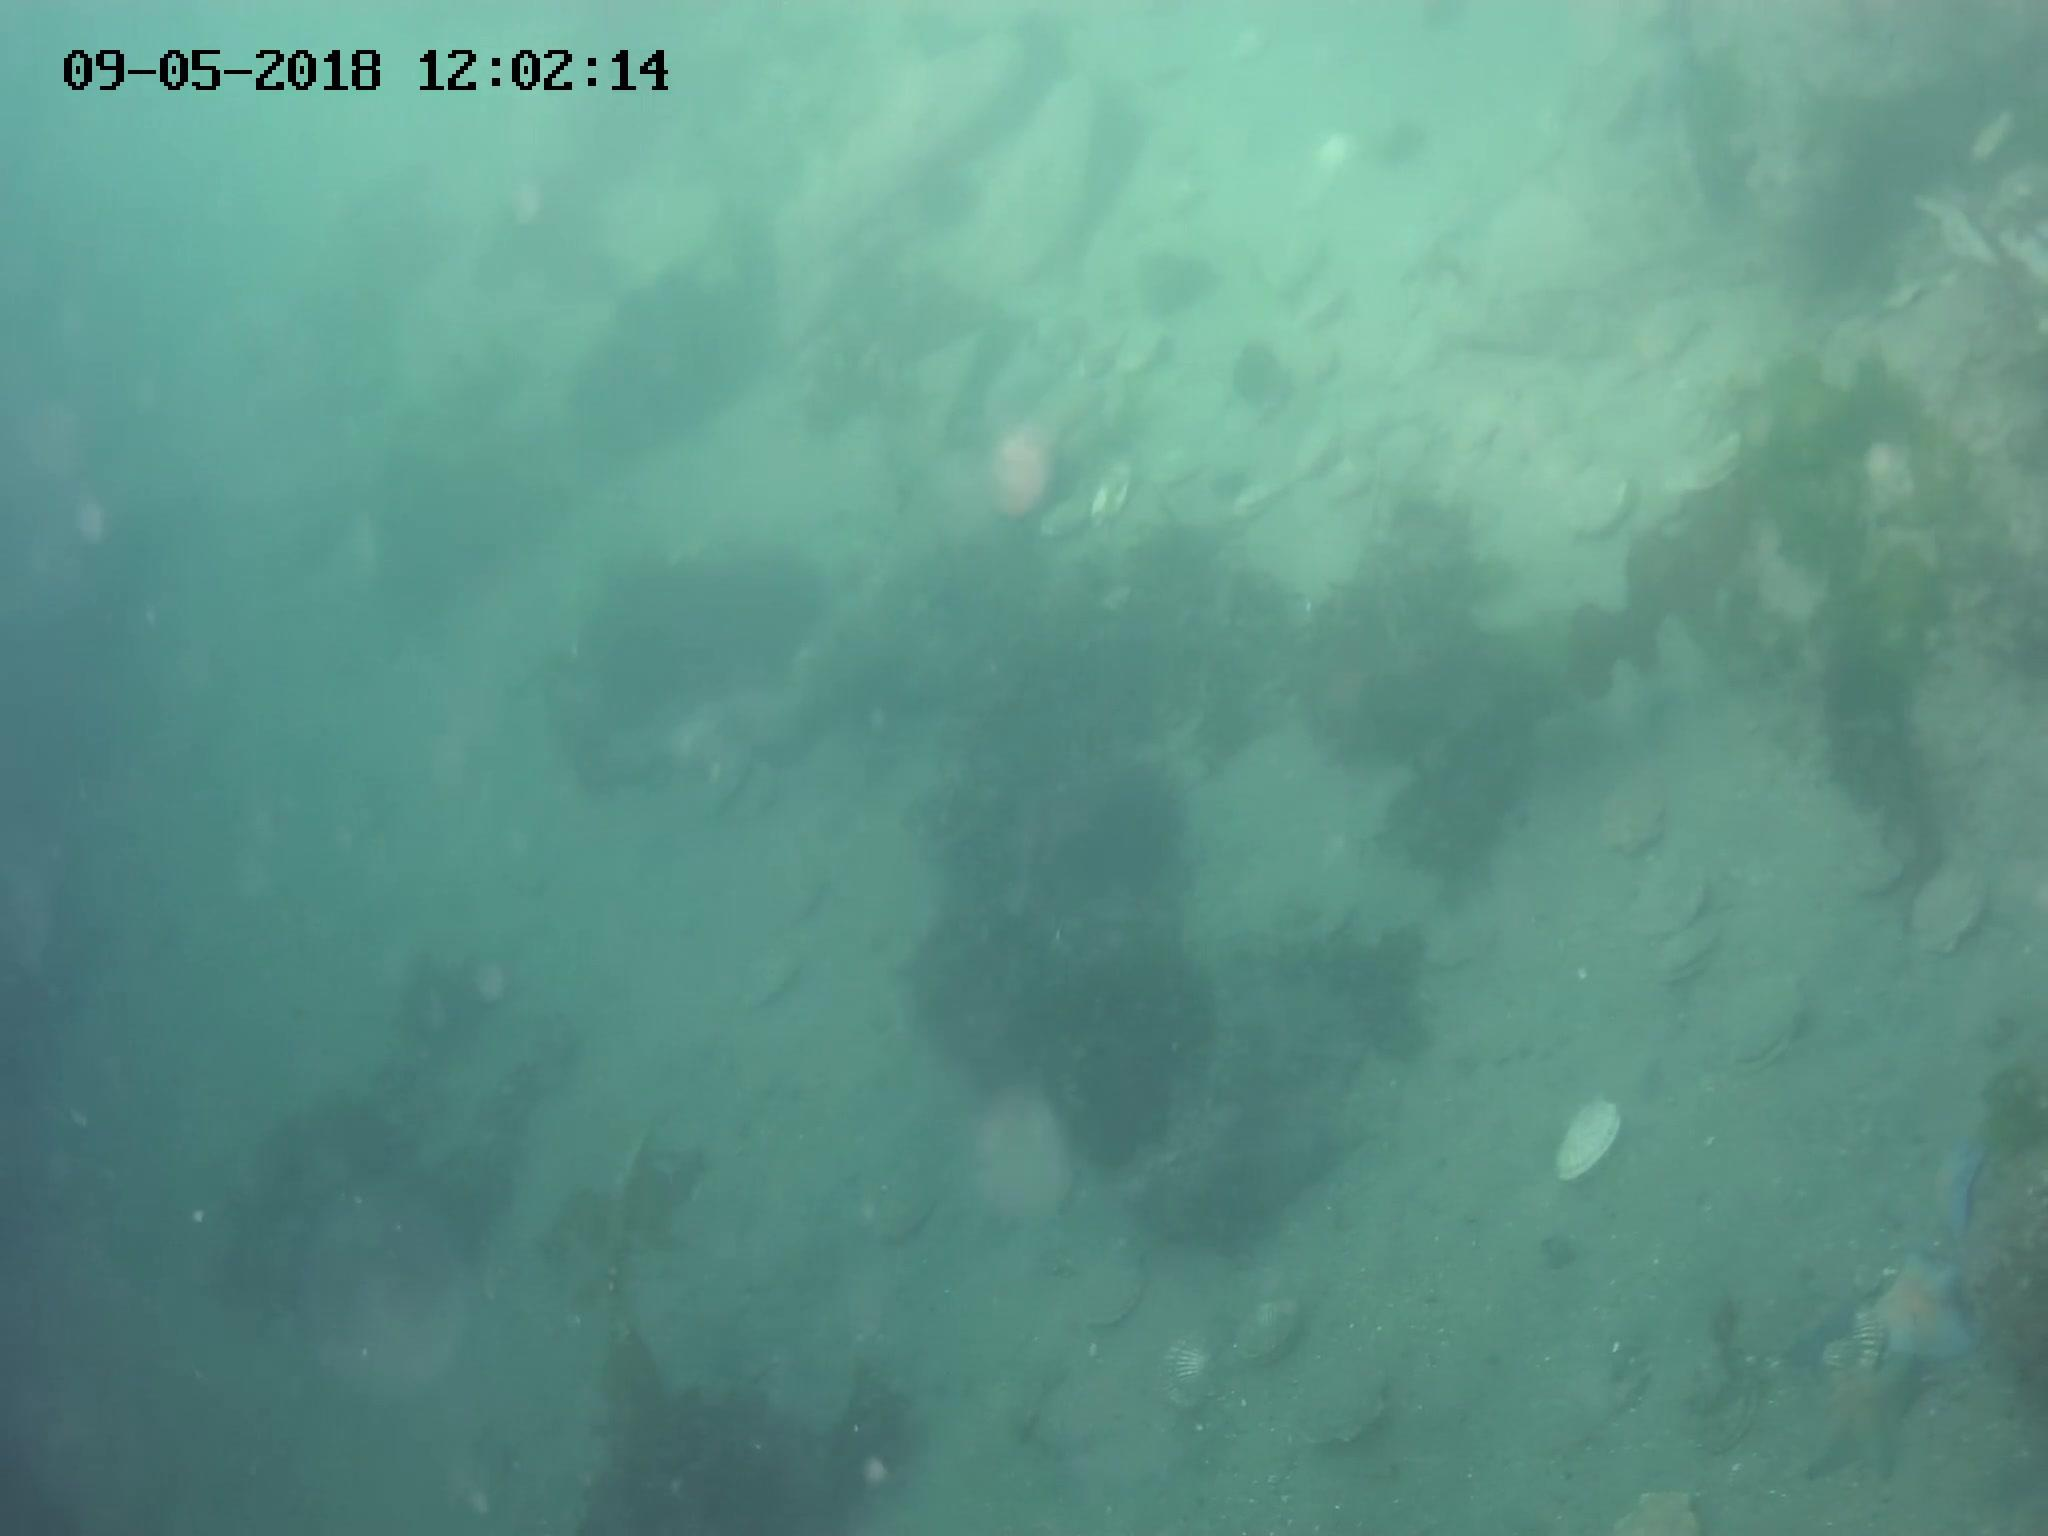scallop: (1295, 1363, 1400, 1455), (1713, 971, 1808, 1070), (1540, 1096, 1629, 1183), (1909, 858, 1987, 950), (1556, 470, 1642, 549), (1151, 1334, 1230, 1418), (1685, 1371, 1759, 1454), (1664, 426, 1746, 497), (987, 431, 1055, 515), (1080, 1250, 1153, 1328), (1232, 1297, 1313, 1363), (1596, 784, 1672, 854), (1640, 866, 1708, 941), (1608, 1483, 1701, 1536), (1843, 833, 1916, 897), (1437, 895, 1501, 966), (1658, 920, 1722, 981)
starfish: (1796, 1334, 1930, 1484), (1882, 1136, 1996, 1238), (1863, 1262, 1980, 1360)
